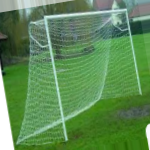goals: (10, 6, 144, 142)
